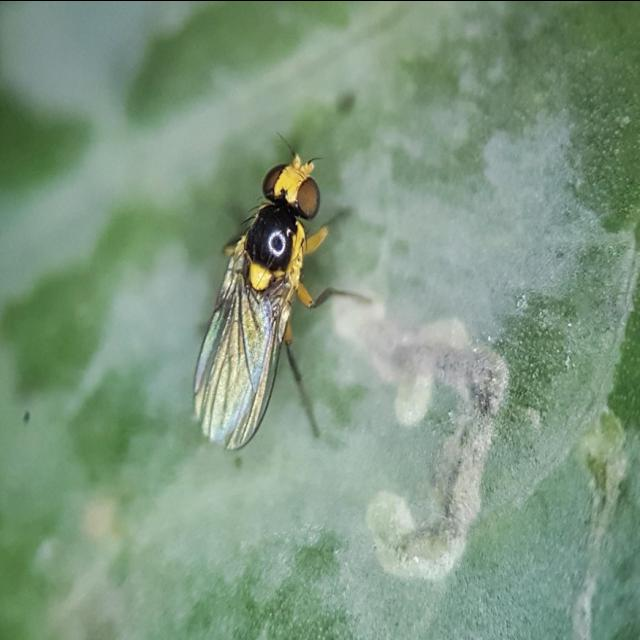Serpentine leafminer: (187, 141, 378, 454)
